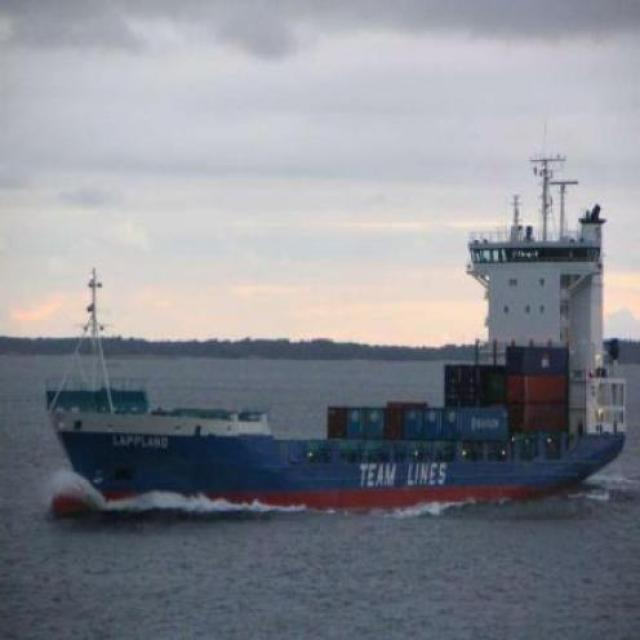boat: (32, 340, 632, 504)
